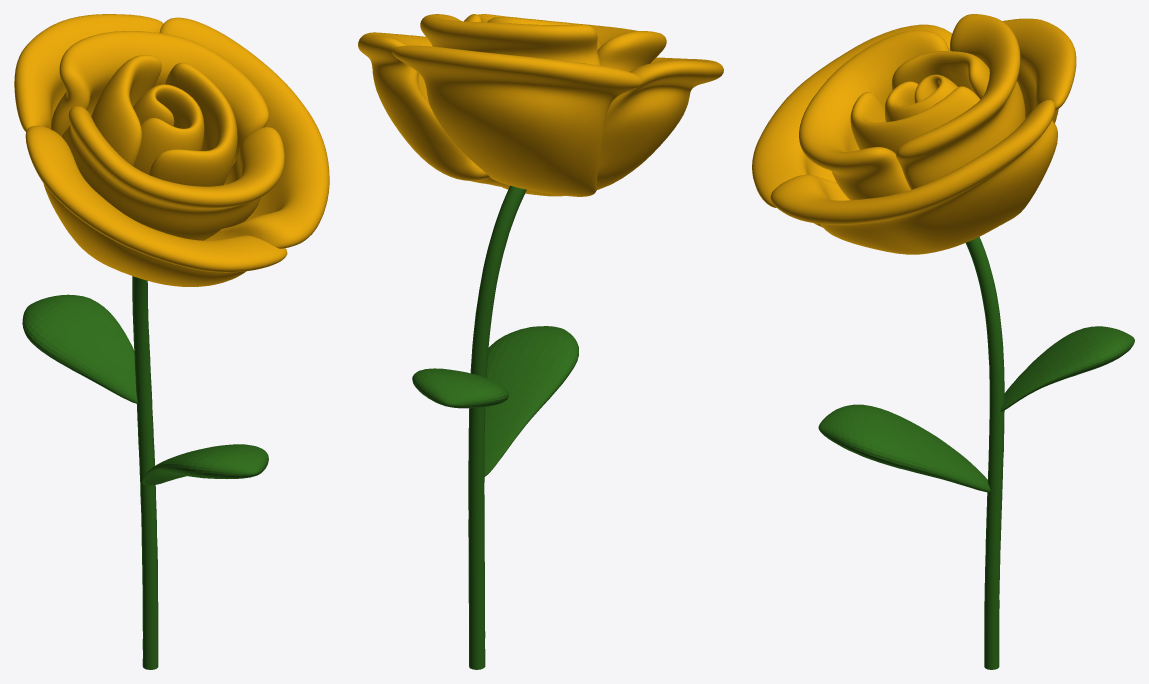
3 renders of one model, left to right at view 1: azimuth 30°, elevation 25°; view 2: azimuth 150°, elevation 25°; view 3: azimuth 270°, elevation 25°, orthographic. The views are drawn at different scales.
Visible parts, largest first — view 1: f14; view 2: f14; view 3: f14.
Part boxes in pixels (<box>): f14: <box>14,14,329,669</box>; f14: <box>358,14,723,669</box>; f14: <box>752,14,1134,669</box>.
Bounding box in the file's own units: 0.3554 × 0.7409 × 0.4198.
